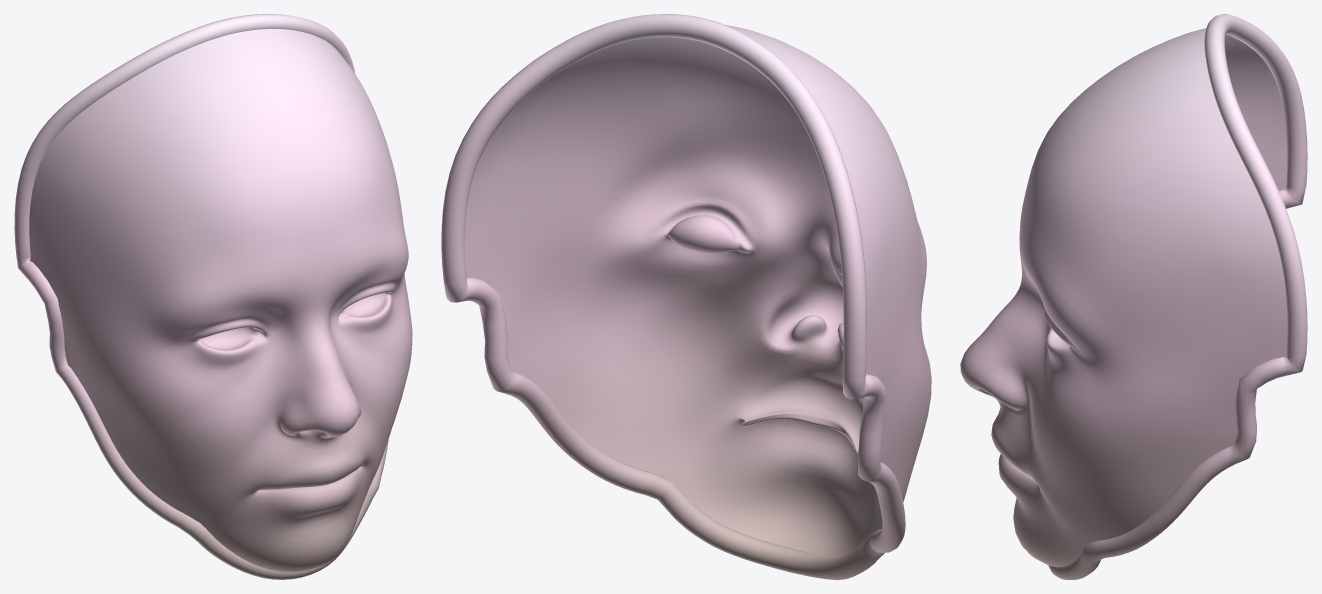
Rendered from Mask_Normal3.glb.
The picture shows the model from 3 angles, left to right: view 1: azimuth 30°, elevation 25°; view 2: azimuth 150°, elevation 25°; view 3: azimuth 270°, elevation 25°; orthographic projection. The views are drawn at different scales.
Parts seen in each view (by area): view 1: Female Average Head; view 2: Female Average Head; view 3: Female Average Head.
Part boxes in pixels (x1=…): Female Average Head: x1=14, y1=14, x2=412, y2=579; Female Average Head: x1=441, y1=14, x2=931, y2=579; Female Average Head: x1=960, y1=14, x2=1307, y2=579.
Bounding box in the file's own units: 0.1592 × 0.2231 × 0.1315.
1 material, 1 textured.
